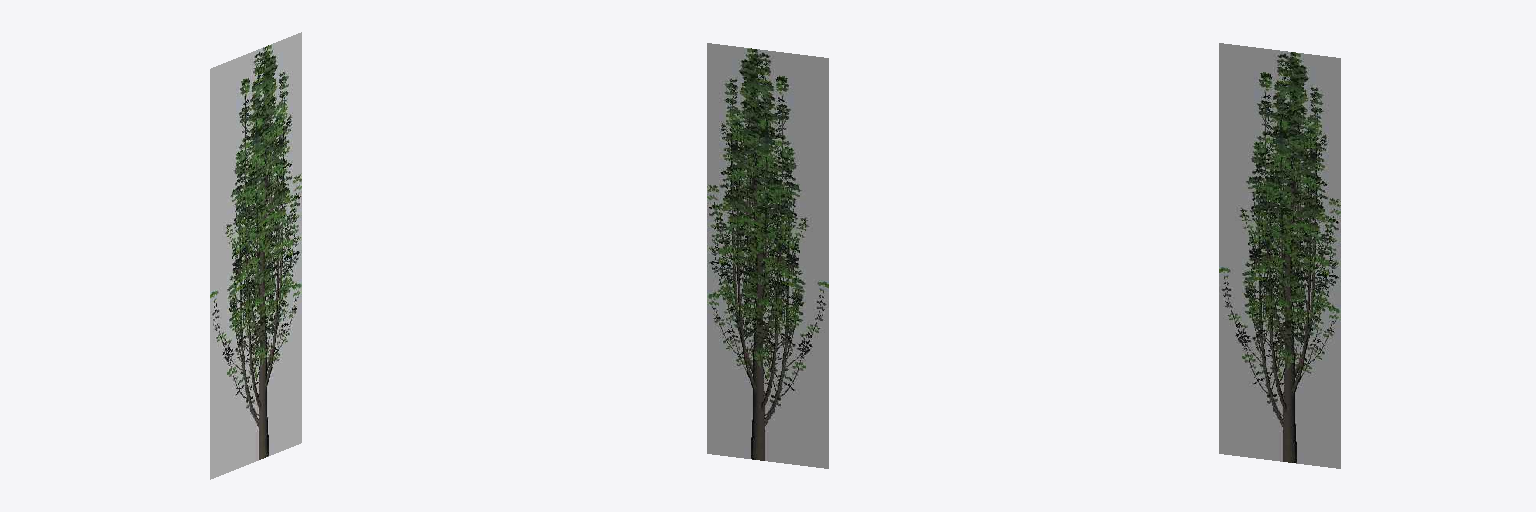
3 renders of one model, left to right at view 1: azimuth 30°, elevation 25°; view 2: azimuth 150°, elevation 25°; view 3: azimuth 330°, elevation 25°, orthographic.
Visible parts, largest first — view 1: Mesh1 Demonstration_Poplar__Lombardy_60_1 Model; view 2: Mesh1 Demonstration_Poplar__Lombardy_60_1 Model; view 3: Mesh1 Demonstration_Poplar__Lombardy_60_1 Model.
Part boxes in pixels (x1,y1,x2,y2): Mesh1 Demonstration_Poplar__Lombardy_60_1 Model: (210,32,301,479); Mesh1 Demonstration_Poplar__Lombardy_60_1 Model: (707,43,828,468); Mesh1 Demonstration_Poplar__Lombardy_60_1 Model: (1219,43,1340,468).
Size of the model in its own units: 16.47 by 60.39 by 3.94.
1 materials, 1 textured.